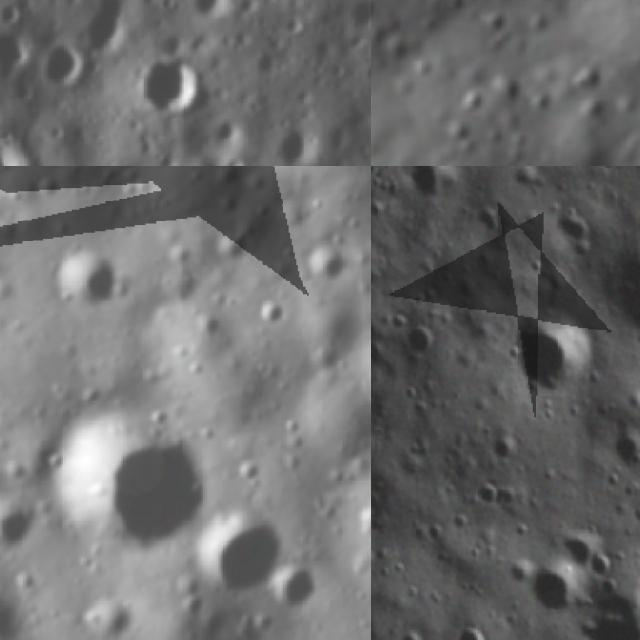crater: (44, 408, 210, 556), (508, 302, 612, 408), (287, 358, 371, 467), (289, 273, 371, 372), (192, 512, 282, 598), (107, 44, 203, 122), (48, 246, 120, 318), (29, 30, 100, 95), (264, 109, 331, 166), (522, 568, 591, 622), (0, 105, 56, 166), (73, 596, 140, 640), (0, 577, 35, 640), (266, 564, 310, 614), (0, 493, 36, 553), (302, 242, 348, 284), (182, 0, 235, 26), (587, 553, 619, 586), (458, 90, 494, 119), (237, 456, 266, 491), (479, 477, 507, 511), (455, 622, 490, 640), (362, 192, 371, 249), (604, 166, 631, 178), (371, 172, 396, 181)
